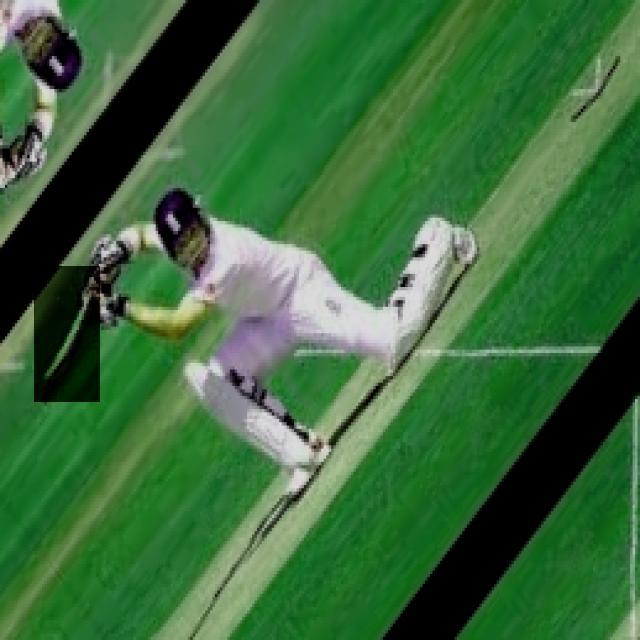bat: (36, 273, 101, 402)
